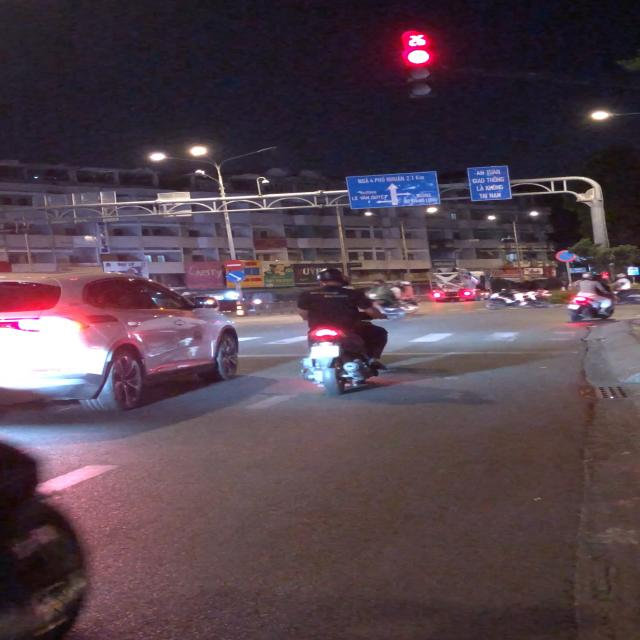Bien bao cam di nguoc chieu: (224, 259, 246, 271)
Bien bao huong phai di vong chuong ngai vat: (224, 270, 247, 283)
